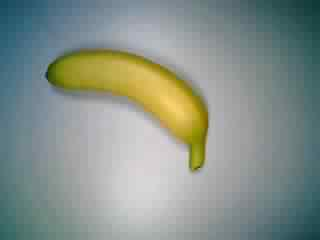banana: (41, 43, 213, 176)
